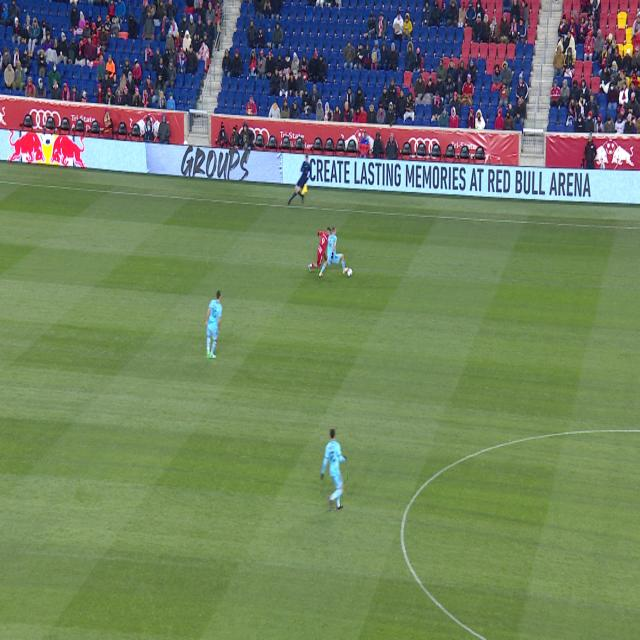football: (347, 268, 353, 277)
player: (321, 429, 347, 510), (319, 227, 348, 277), (205, 291, 222, 359), (308, 228, 331, 272)
